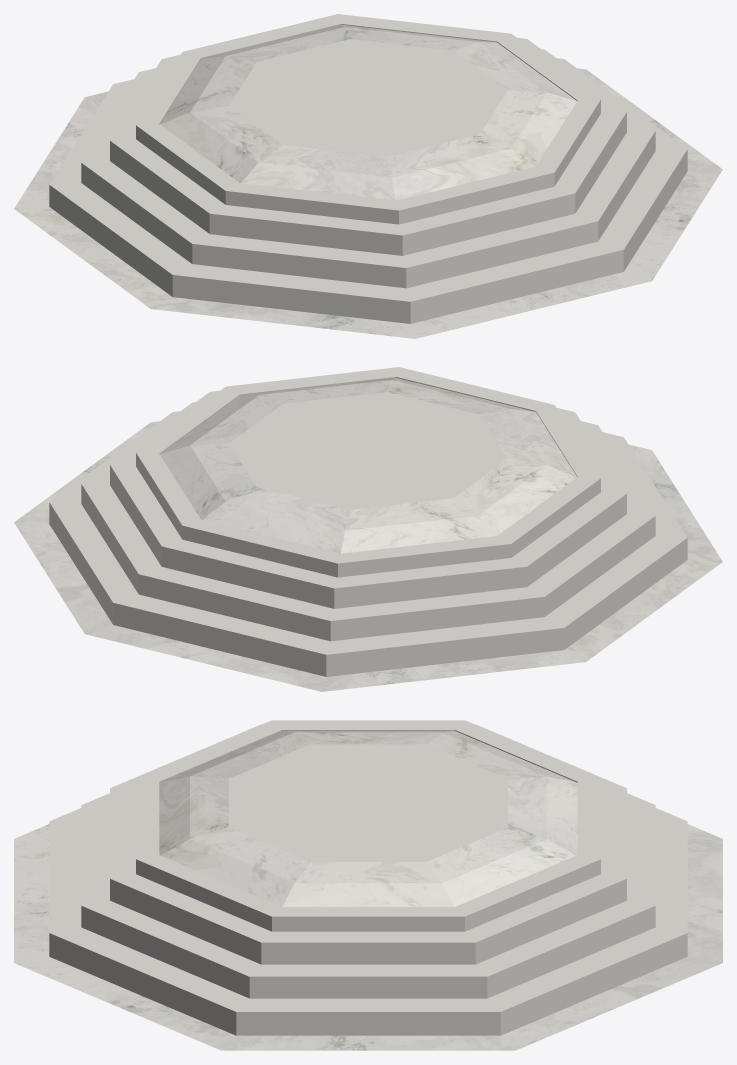
The model's file is AltarREWORK.fbx.
The picture shows the model from 3 angles, top to bottom: view 1: azimuth 30°, elevation 25°; view 2: azimuth 150°, elevation 25°; view 3: azimuth 270°, elevation 25°; orthographic projection. The views are drawn at different scales.
Visible parts, largest first — view 1: Altar; view 2: Altar; view 3: Altar.
Boxes of the visible parts, bbox=[...] form: Altar: bbox=[14, 14, 722, 338]; Altar: bbox=[14, 367, 722, 691]; Altar: bbox=[14, 720, 722, 1050].
Bounding box in the file's own units: 3009 × 458 × 3009.
